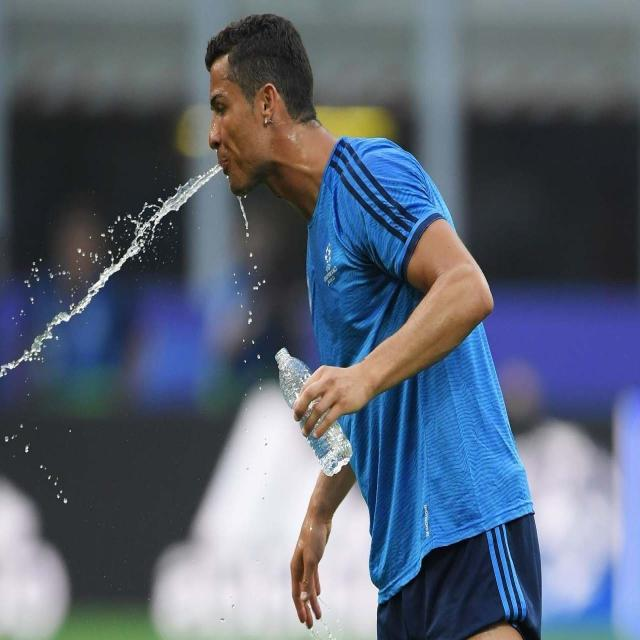Spitting: (159, 15, 314, 293)
